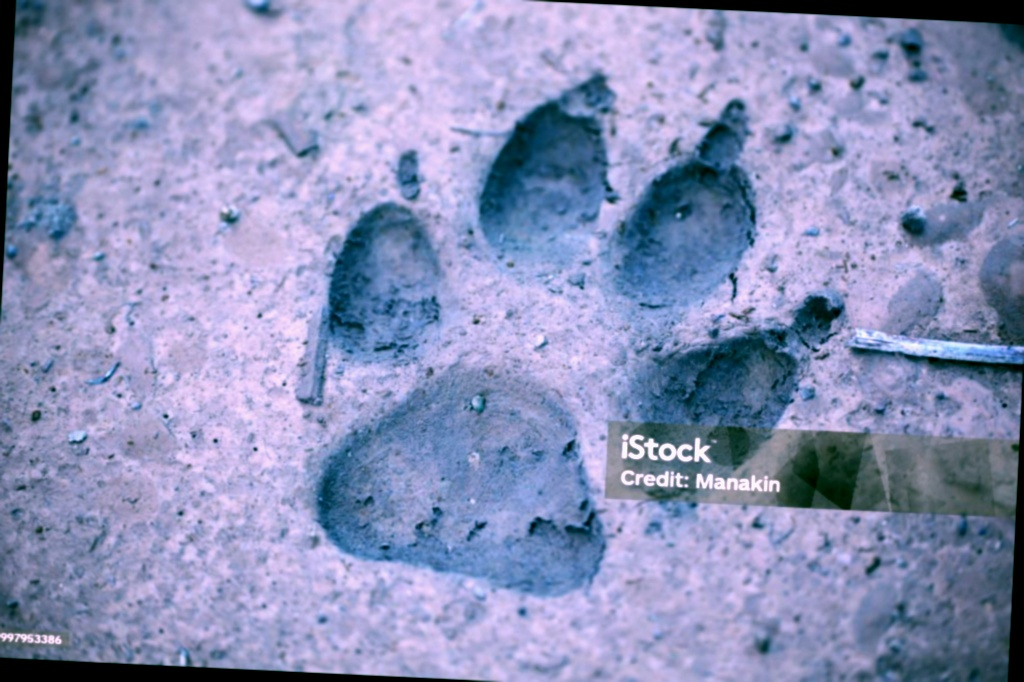loup: (263, 23, 868, 656)
